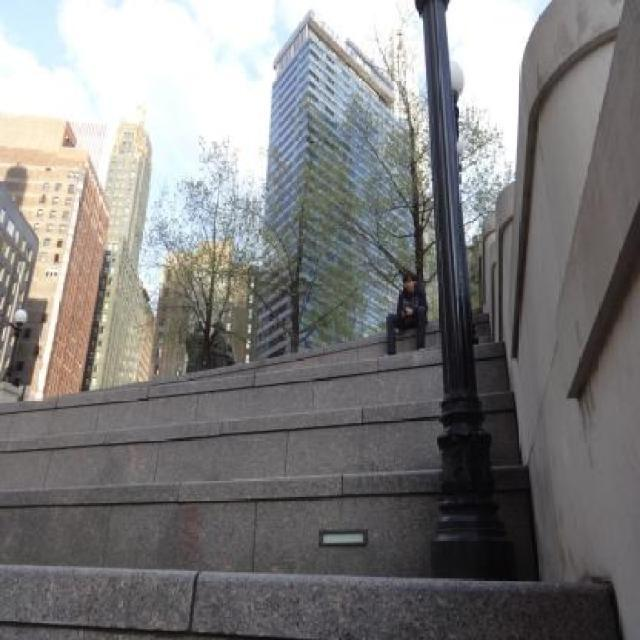stair: (1, 304, 622, 640)
